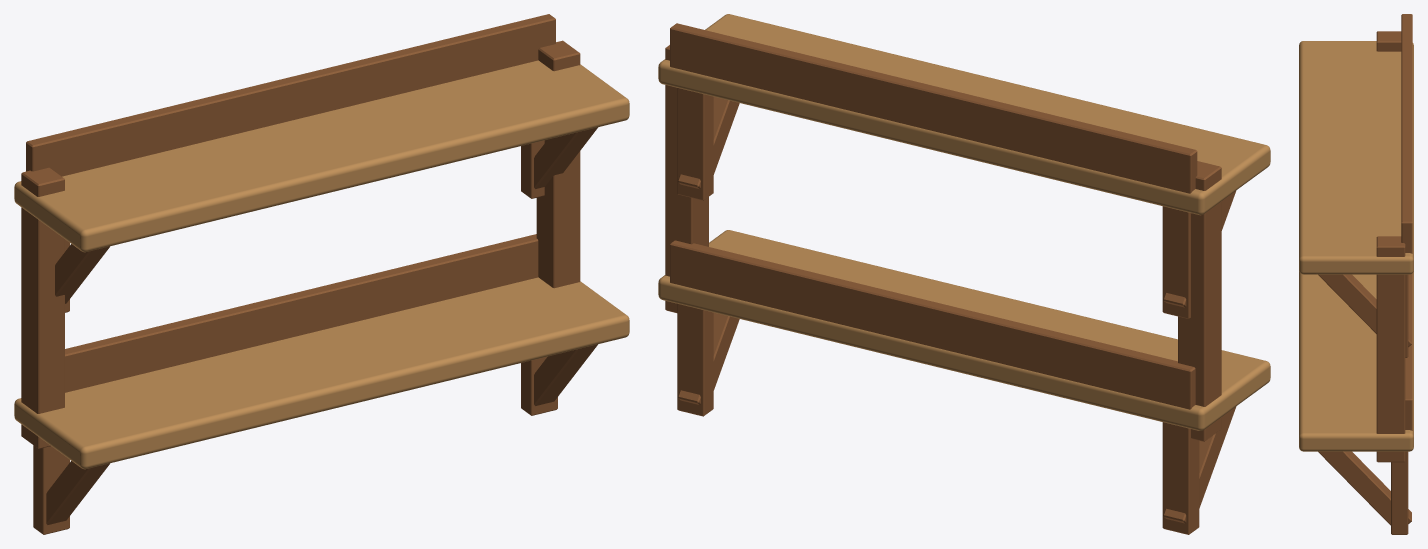
The model's file is cabin-wall-shelf.glb.
3 renders of one model, left to right at view 1: azimuth 30°, elevation 25°; view 2: azimuth 150°, elevation 25°; view 3: azimuth 270°, elevation 25°, orthographic. The views are drawn at different scales.
Parts seen in each view (by area): view 1: board.2, board.1, rail.back.2, rail.back.1, stile.left, stile.right, brace.1.left, bracket.1.left, brace.1.right, brace.2.right, brace.2.left, bracket.1.right (+1 smaller); view 2: board.2, rail.back.2, rail.back.1, board.1, stile.left, stile.right, bracket.1.left, bracket.2.right, bracket.1.right, bracket.2.left, brace.1.left, brace.2.right (+1 smaller); view 3: board.2, board.1, stile.right, rail.back.2, brace.1.right, brace.2.right, bracket.1.right, rail.back.1, stile.left, bracket.2.right.
Part boxes in pixels (x1,y1,x2,y2): board.2: (14, 60, 629, 252); board.1: (14, 277, 629, 469); rail.back.2: (26, 14, 555, 176); rail.back.1: (65, 234, 538, 392); stile.left: (21, 167, 64, 448); stile.right: (536, 40, 580, 288); brace.1.left: (46, 461, 109, 524); bracket.1.left: (33, 445, 69, 534); brace.1.right: (534, 344, 597, 405); brace.2.right: (534, 127, 597, 188); brace.2.left: (55, 244, 109, 303); bracket.1.right: (521, 356, 557, 415); board.2: (658, 14, 1270, 215); rail.back.2: (670, 23, 1197, 193); rail.back.1: (670, 240, 1195, 409); board.1: (658, 230, 1270, 430); stile.left: (1178, 161, 1221, 441); stile.right: (665, 45, 708, 312); bracket.1.left: (1162, 422, 1199, 534); bracket.2.right: (677, 88, 713, 200); bracket.1.right: (677, 303, 713, 416); bracket.2.left: (1162, 206, 1190, 318); brace.1.left: (1163, 406, 1236, 523); brace.2.right: (677, 97, 739, 189); board.2: (1299, 41, 1413, 274); board.1: (1299, 271, 1413, 451); stile.right: (1376, 236, 1405, 462); rail.back.2: (1401, 14, 1412, 253); brace.1.right: (1318, 451, 1411, 525); brace.2.right: (1318, 274, 1411, 346); bracket.1.right: (1391, 451, 1408, 534); rail.back.1: (1405, 273, 1412, 430); stile.left: (1376, 31, 1401, 51); bracket.2.right: (1405, 274, 1408, 357).
Bounding box in the file's own units: 0.9 × 0.605 × 0.2.
